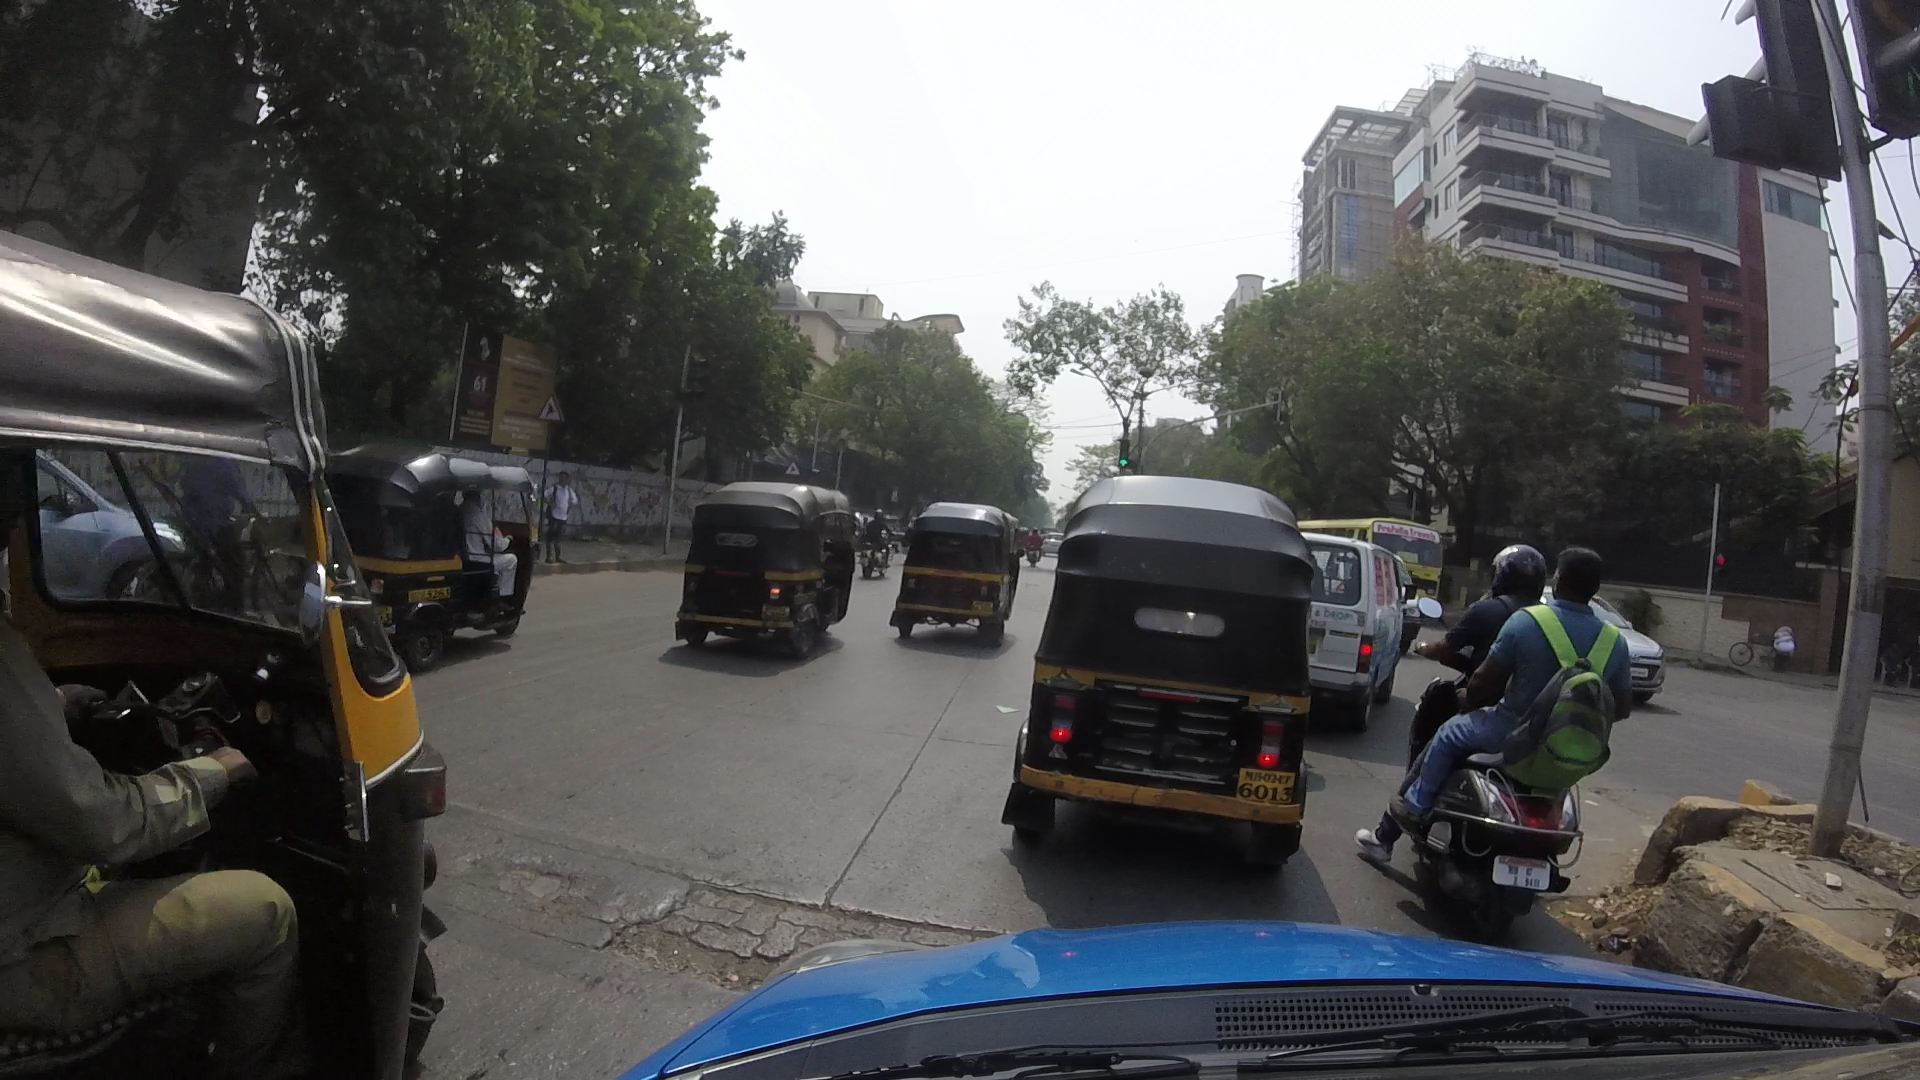bike/scooter: (1383, 527, 1633, 898)
car: (1302, 527, 1410, 735)
rickshaw: (7, 240, 446, 1080), (992, 472, 1333, 860), (327, 396, 574, 647), (659, 448, 865, 651), (884, 472, 1015, 680)
